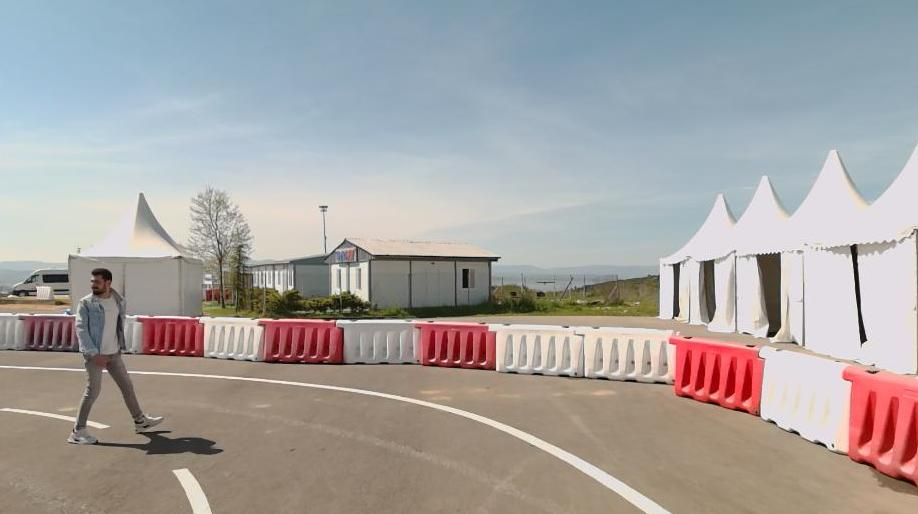nesne: (122, 316, 918, 486), (0, 356, 681, 513), (0, 360, 683, 513), (1, 364, 675, 513), (1, 401, 219, 514), (64, 267, 164, 446), (495, 326, 683, 385), (760, 348, 856, 456), (844, 364, 918, 486), (670, 336, 763, 418), (420, 317, 499, 372), (341, 320, 423, 364), (262, 319, 343, 363), (137, 315, 203, 358), (0, 405, 107, 431), (202, 317, 261, 362), (27, 316, 81, 352), (10, 268, 71, 299), (175, 464, 213, 513), (0, 314, 27, 349), (123, 316, 143, 352)
